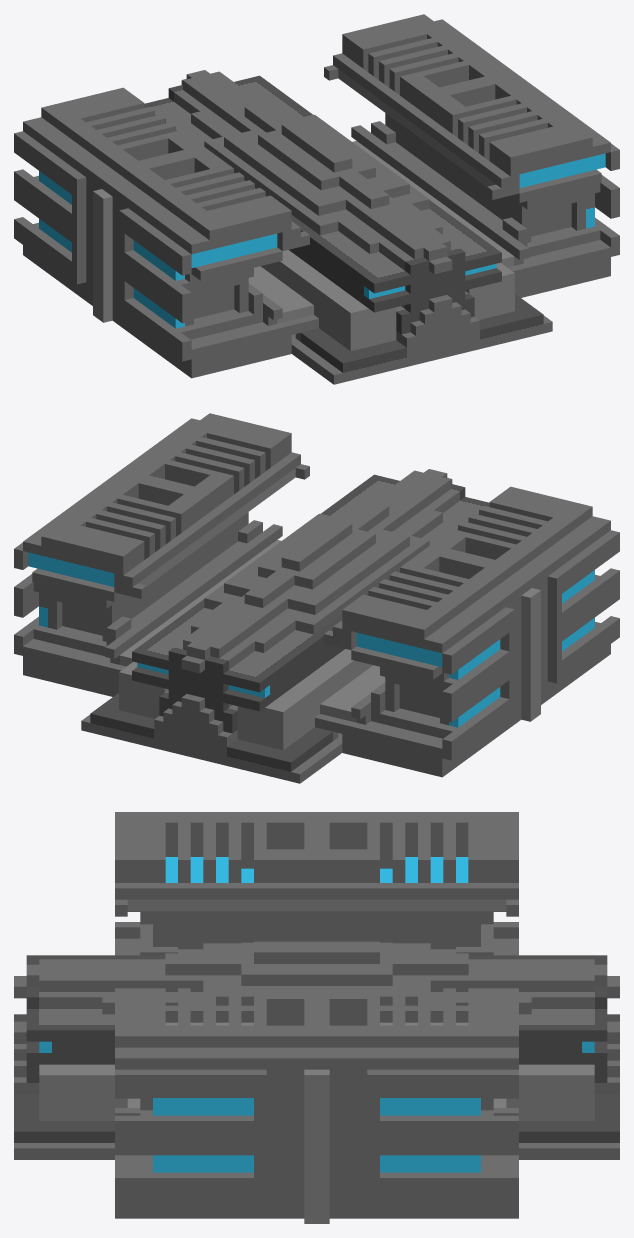
File: alien_saucer3b.fbx
3 views of the same model, one above another, from view 1: azimuth 30°, elevation 25°; view 2: azimuth 150°, elevation 25°; view 3: azimuth 270°, elevation 25° (orthographic). The views are drawn at different scales.
Visible parts, largest first — view 1: alien_saucer3b; view 2: alien_saucer3b; view 3: alien_saucer3b.
Boxes of the visible parts, bbox=[...] form: alien_saucer3b: bbox=[14, 14, 619, 384]; alien_saucer3b: bbox=[14, 413, 619, 783]; alien_saucer3b: bbox=[14, 812, 619, 1223].
Bounding box in the file's own units: 4.8 × 4.8 × 1.5.
1 material, 1 textured.
